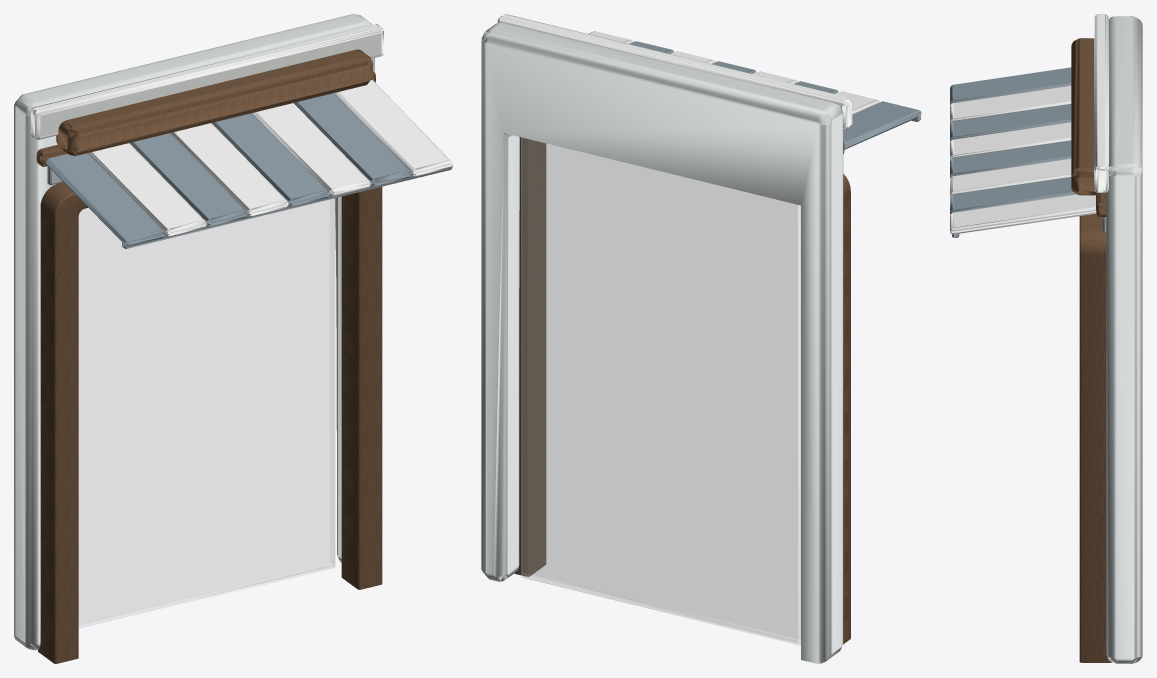
File: Shopfront.glb
3 views of the same model, side by side, from view 1: azimuth 30°, elevation 25°; view 2: azimuth 150°, elevation 25°; view 3: azimuth 270°, elevation 25° (orthographic). The views are drawn at different scales.
Visible parts, largest first — view 1: PBK_glass.001, PBK_Continuous_Frame_Modern_Shopfront.003, PBK_substrate.001, PBK_signboard.001, PBK_floor_band.001, PBK_awning_stripe.001, PBK_awning_stripe.008, PBK_awning_stripe.002, PBK_awning_stripe.003, PBK_awning_stripe.005, PBK_awning_stripe.006, PBK_awning_stripe.004 (+2 smaller); view 2: PBK_glass.001, PBK_substrate.001, PBK_Continuous_Frame_Modern_Shopfront.003, PBK_floor_band.001, PBK_awning_stripe.001; view 3: PBK_substrate.001, PBK_Continuous_Frame_Modern_Shopfront.003, PBK_signboard.001, PBK_awning_stripe.008, PBK_floor_band.001, PBK_awning_stripe.007, PBK_awning_stripe.001, PBK_awning_stripe.002, PBK_awning_stripe.005, PBK_awning_stripe.003, PBK_awning_stripe.004, PBK_awning_stripe.006.
Boxes of the visible parts, left/top/right/bottom form: PBK_glass.001: left=79, top=198, right=335, bottom=629; PBK_Continuous_Frame_Modern_Shopfront.003: left=38, top=182, right=382, bottom=663; PBK_substrate.001: left=14, top=14, right=374, bottom=650; PBK_signboard.001: left=56, top=49, right=372, bottom=155; PBK_floor_band.001: left=30, top=24, right=383, bottom=139; PBK_awning_stripe.001: left=46, top=153, right=165, bottom=246; PBK_awning_stripe.008: left=335, top=80, right=452, bottom=176; PBK_awning_stripe.002: left=89, top=143, right=206, bottom=236; PBK_awning_stripe.003: left=130, top=133, right=247, bottom=226; PBK_awning_stripe.005: left=212, top=113, right=329, bottom=206; PBK_awning_stripe.006: left=253, top=103, right=370, bottom=196; PBK_awning_stripe.004: left=171, top=123, right=288, bottom=216; PBK_glass.001: left=521, top=137, right=800, bottom=644; PBK_substrate.001: left=481, top=22, right=843, bottom=663; PBK_Continuous_Frame_Modern_Shopfront.003: left=514, top=137, right=850, bottom=644; PBK_floor_band.001: left=497, top=14, right=852, bottom=129; PBK_awning_stripe.001: left=843, top=101, right=921, bottom=149; PBK_substrate.001: left=1106, top=16, right=1142, bottom=663; PBK_Continuous_Frame_Modern_Shopfront.003: left=1079, top=214, right=1111, bottom=662; PBK_signboard.001: left=1071, top=38, right=1100, bottom=195; PBK_awning_stripe.008: left=950, top=194, right=1096, bottom=234; PBK_floor_band.001: left=1094, top=14, right=1108, bottom=192; PBK_awning_stripe.007: left=950, top=177, right=1076, bottom=214; PBK_awning_stripe.001: left=950, top=67, right=1071, bottom=104; PBK_awning_stripe.002: left=950, top=85, right=1071, bottom=123; PBK_awning_stripe.005: left=950, top=140, right=1071, bottom=177; PBK_awning_stripe.003: left=950, top=104, right=1071, bottom=141; PBK_awning_stripe.004: left=950, top=122, right=1071, bottom=159; PBK_awning_stripe.006: left=950, top=158, right=1071, bottom=196.
Bounding box in the file's own units: 2 × 3 × 1.05.
7 materials, 2 textured.
